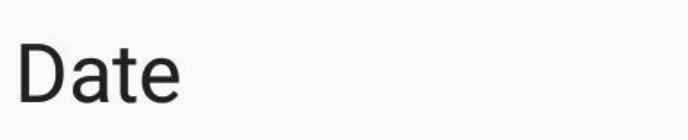TextView: (1, 1, 687, 139)
